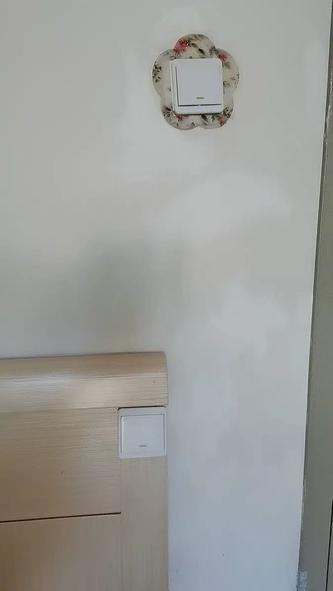switch: (171, 61, 224, 111), (117, 411, 168, 457)
